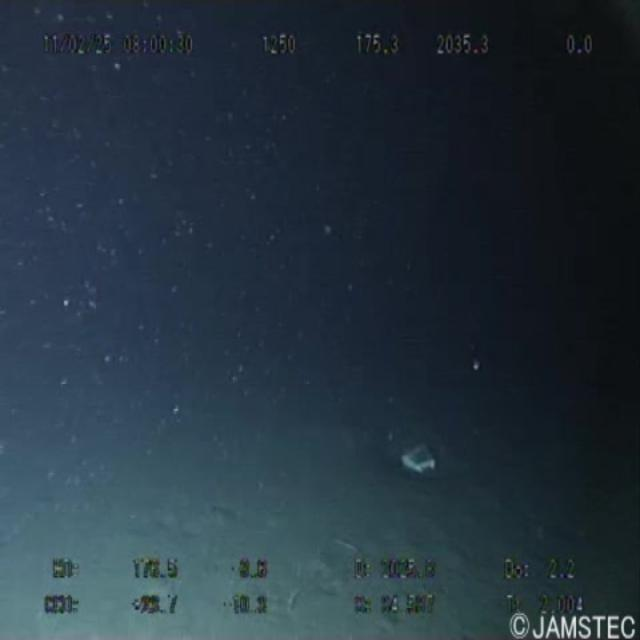Litter: (384, 425, 457, 491)
